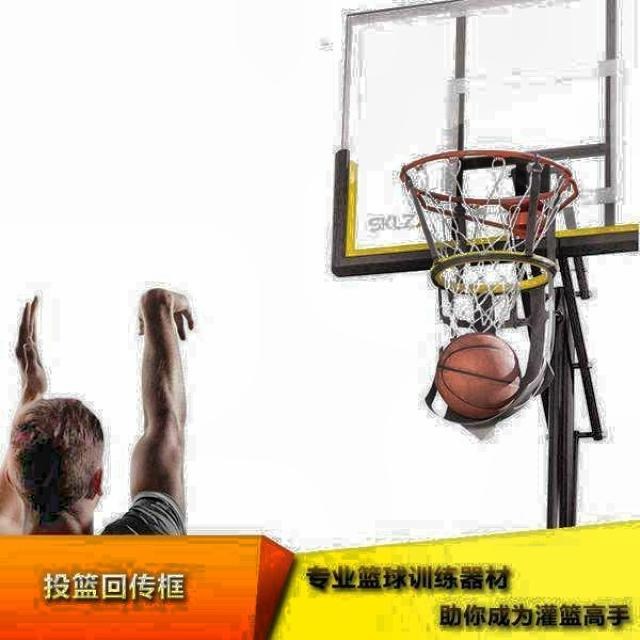board: (437, 332, 521, 419)
